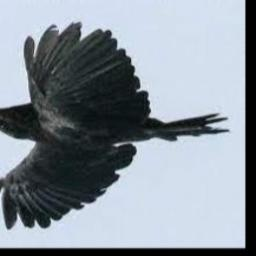Crow: (0, 21, 231, 229)
